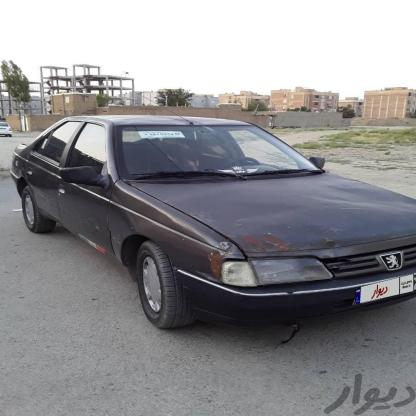Car: (0, 116, 416, 342)
